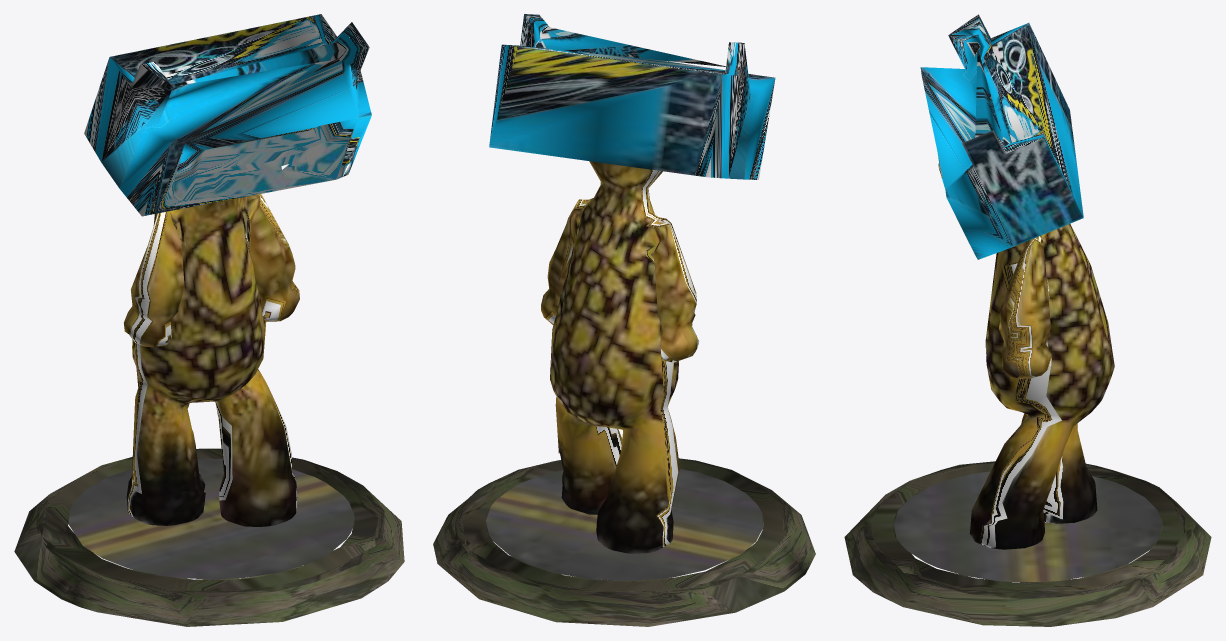
The picture shows the model from 3 angles, left to right: view 1: azimuth 30°, elevation 25°; view 2: azimuth 150°, elevation 25°; view 3: azimuth 270°, elevation 25°; orthographic projection. The views are drawn at different scales.
Size of the model in its own units: 1.44 by 2.12 by 1.43.
4 materials, 4 textured.
